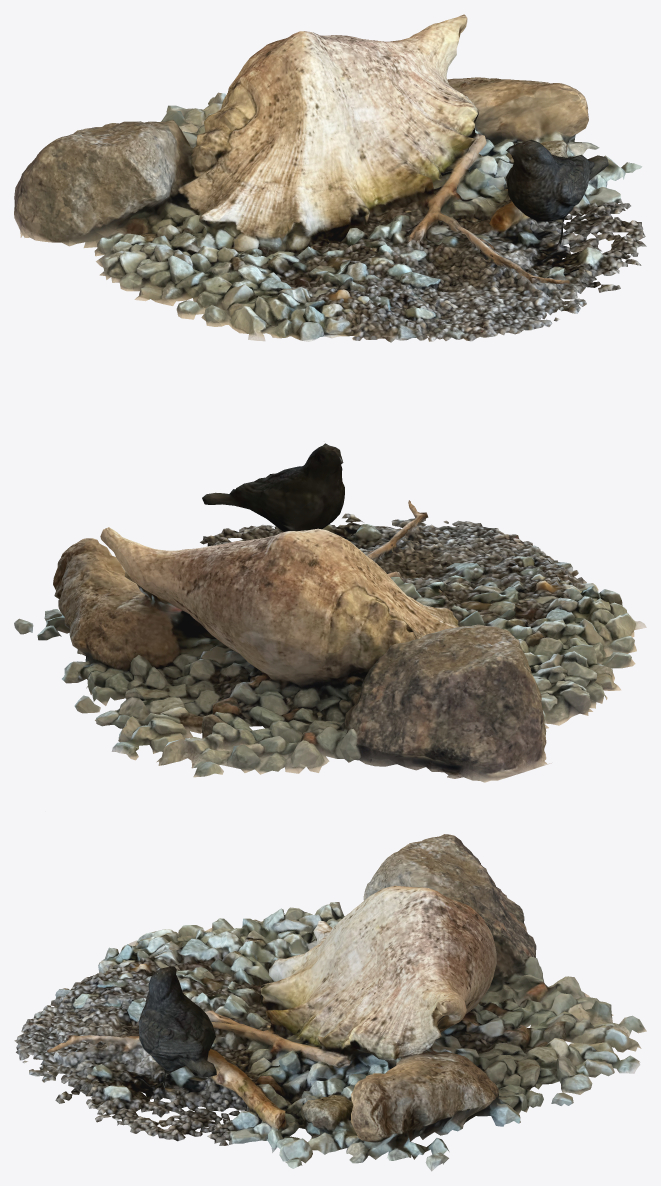
The picture shows the model from 3 angles, top to bottom: view 1: azimuth 30°, elevation 25°; view 2: azimuth 150°, elevation 25°; view 3: azimuth 270°, elevation 25°; orthographic projection. The views are drawn at different scales.
Size of the model in its own units: 0.5171 by 0.1777 by 0.5295.
Materials: 1 (1 with a texture image).
